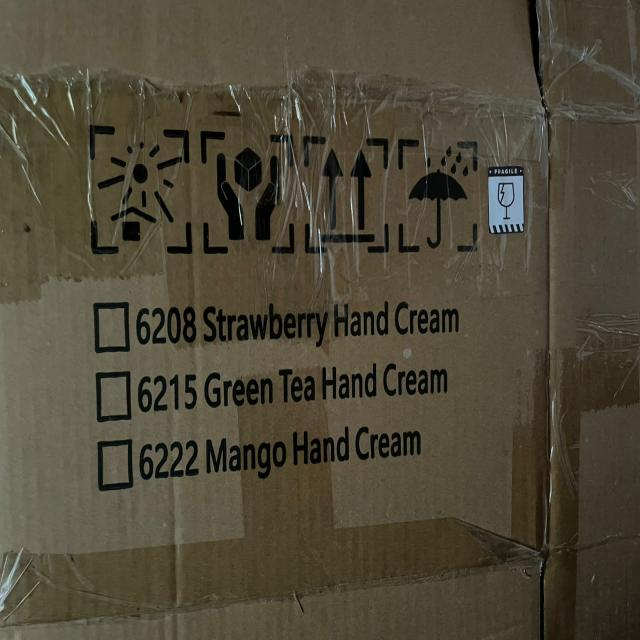carton_box: (0, 27, 640, 640)
fragile_label: (489, 162, 533, 240)
handle_with_care_label: (198, 124, 298, 252)
keep_dry_label: (398, 136, 481, 254)
package_damage: (513, 4, 575, 114)
protect_from_heat_label: (77, 115, 192, 260)
this_side_up_label: (306, 135, 390, 252)
